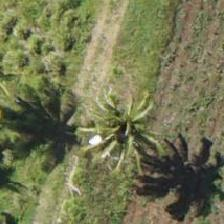Kelapa_Sawit: (67, 81, 157, 171)
